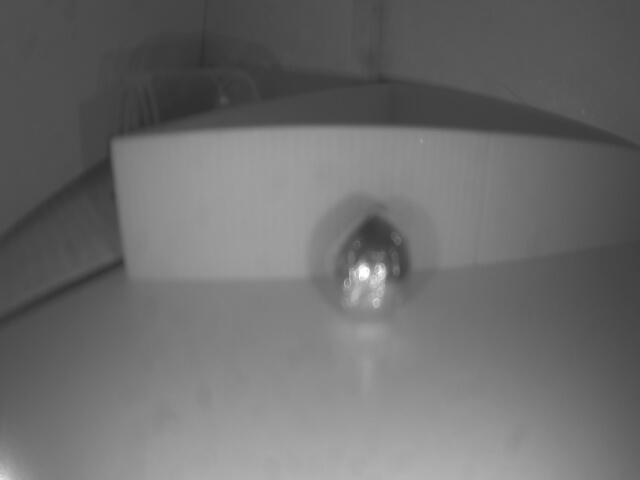Red: (130, 127, 640, 283)
